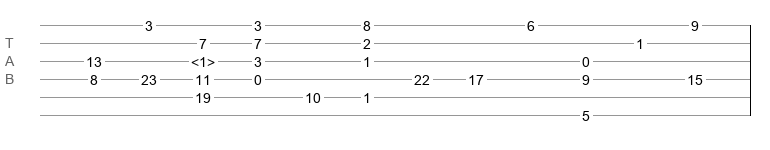0: (254, 72, 262, 82), (582, 54, 590, 64)
1: (363, 90, 371, 100), (363, 54, 371, 64), (636, 36, 644, 46)
10: (305, 90, 321, 100)
11: (195, 72, 211, 82)
13: (86, 54, 102, 64)
15: (687, 72, 703, 82)
17: (468, 72, 484, 82)
19: (195, 90, 211, 100)
2: (363, 36, 371, 46)
22: (414, 72, 430, 82)
23: (141, 72, 157, 82)
3: (145, 18, 153, 28), (254, 18, 262, 28), (254, 54, 262, 64)
5: (582, 108, 590, 118)
6: (527, 18, 535, 28)
7: (199, 36, 207, 46), (254, 36, 262, 46)
8: (90, 72, 98, 82), (363, 18, 371, 28)
9: (582, 72, 590, 82), (691, 18, 699, 28)
harmonic: (191, 54, 215, 64)
